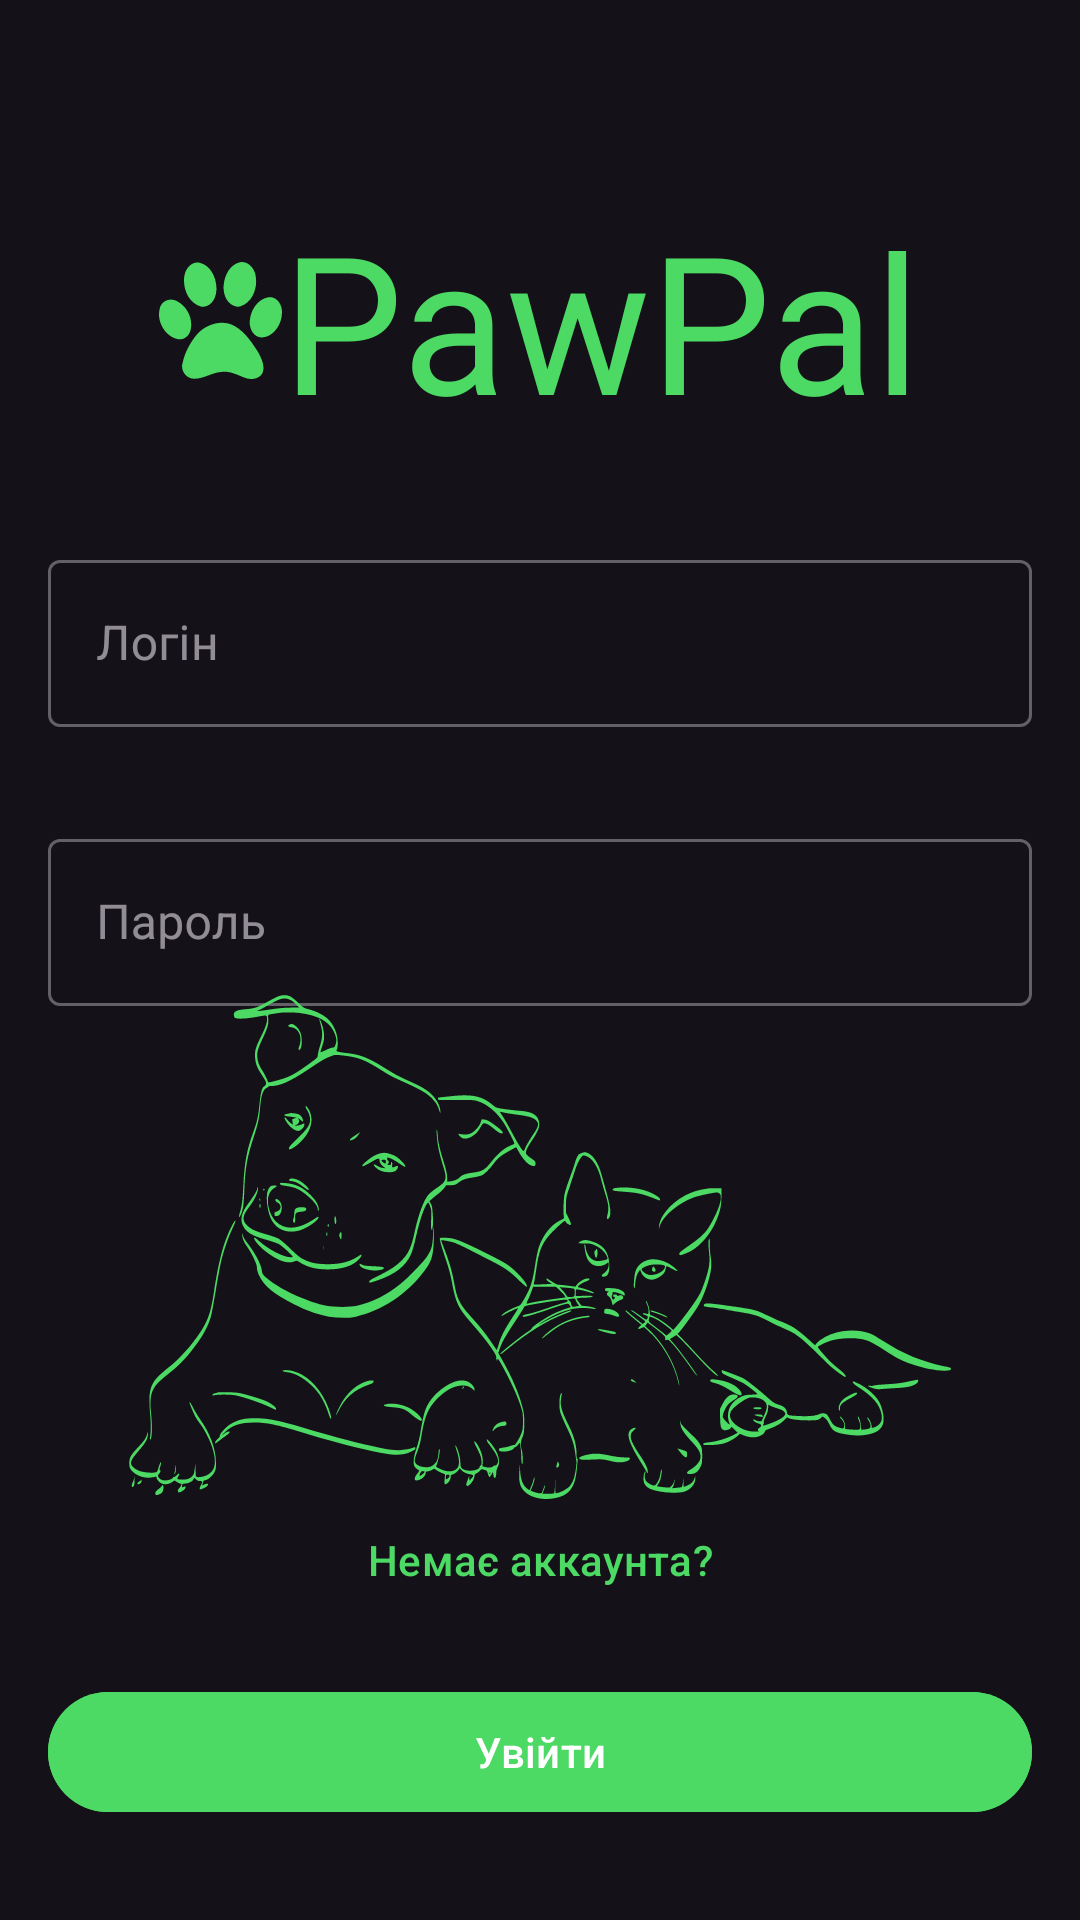

Where icons sit on this 1080 x 1920 app screen, as detection(x1, y1, x2, y2):
paw print: detection(159, 262, 282, 379)
